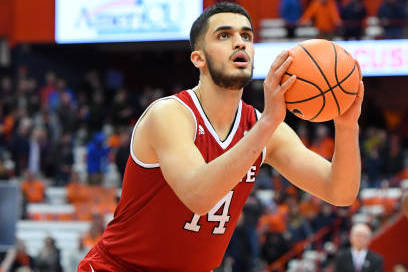ball: (266, 33, 361, 136)
shoot: (97, 1, 367, 272)
